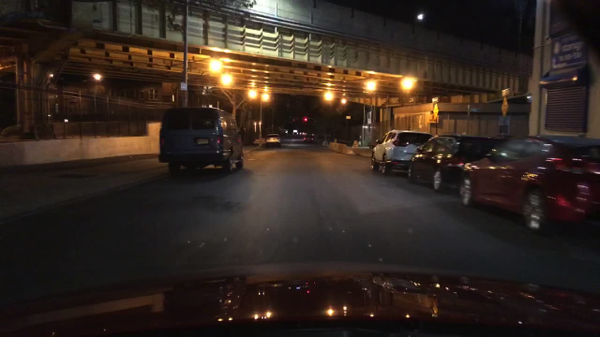car: (457, 136, 599, 234), (158, 106, 245, 176), (406, 136, 506, 193), (370, 129, 432, 176), (264, 133, 281, 147), (302, 132, 314, 144)
traffic light: (302, 115, 308, 121)
traffic sign: (500, 97, 508, 116), (432, 104, 438, 119), (180, 82, 188, 91), (469, 107, 480, 112), (344, 116, 351, 120)
